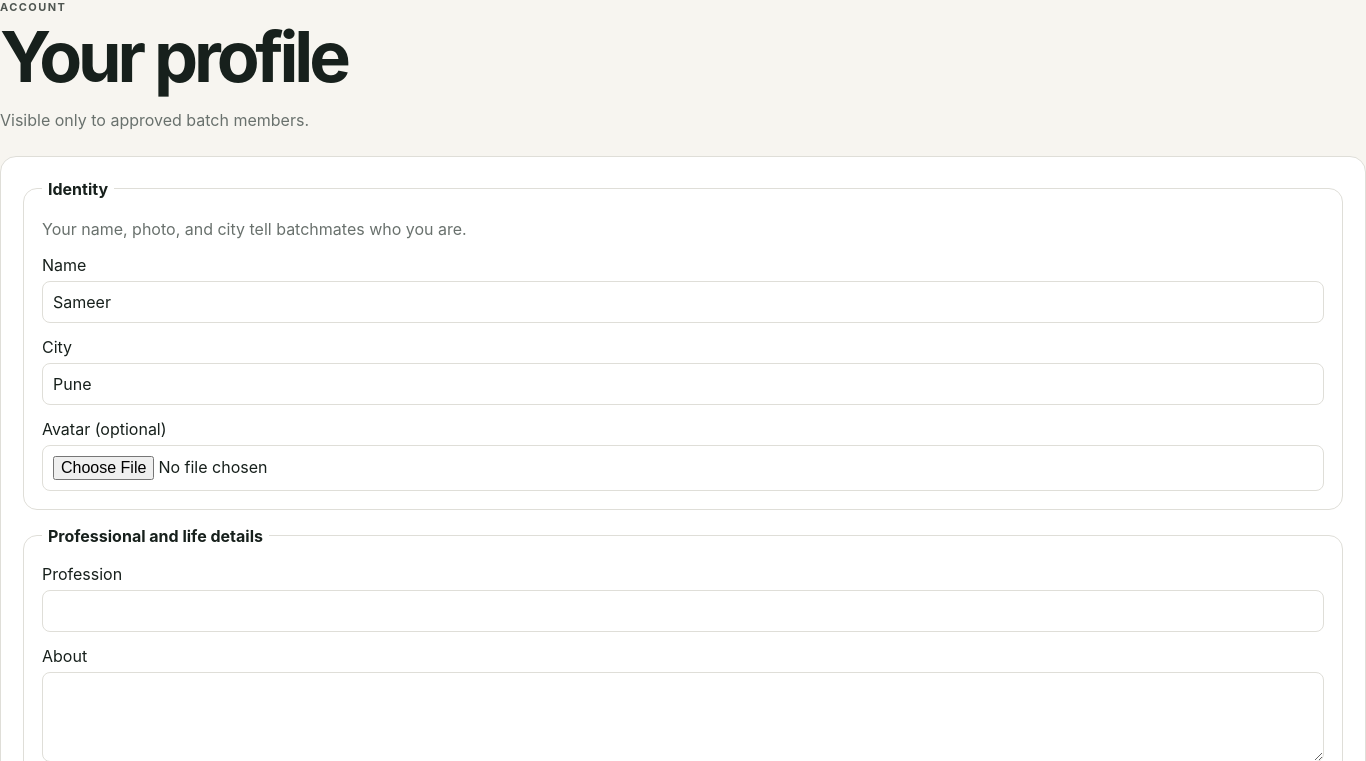
Scenario: UX-5 Account sections and sticky save › shows a sticky save control only after an edit, and saves the grouped profile
This screenshot has width=1366, height=761.
Expected: the button "Save profile" is not shown
Step 1. Type "!!" into the field labelled "City" → (683, 384), box [42,363,1324,405]
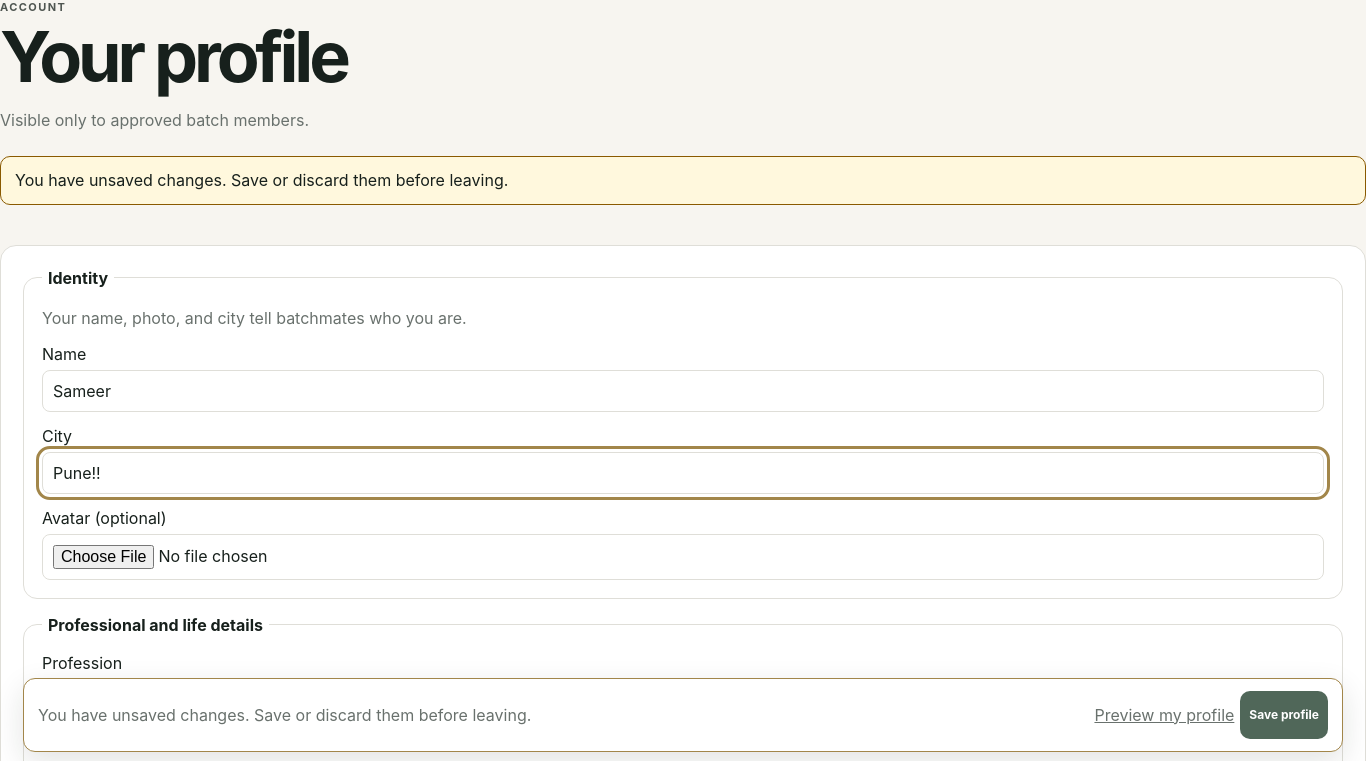
Expected: the button "Save profile" is shown
Step 2. Click the button "Save profile" → (1284, 715), box [1240,691,1328,739]
(page scrolled)
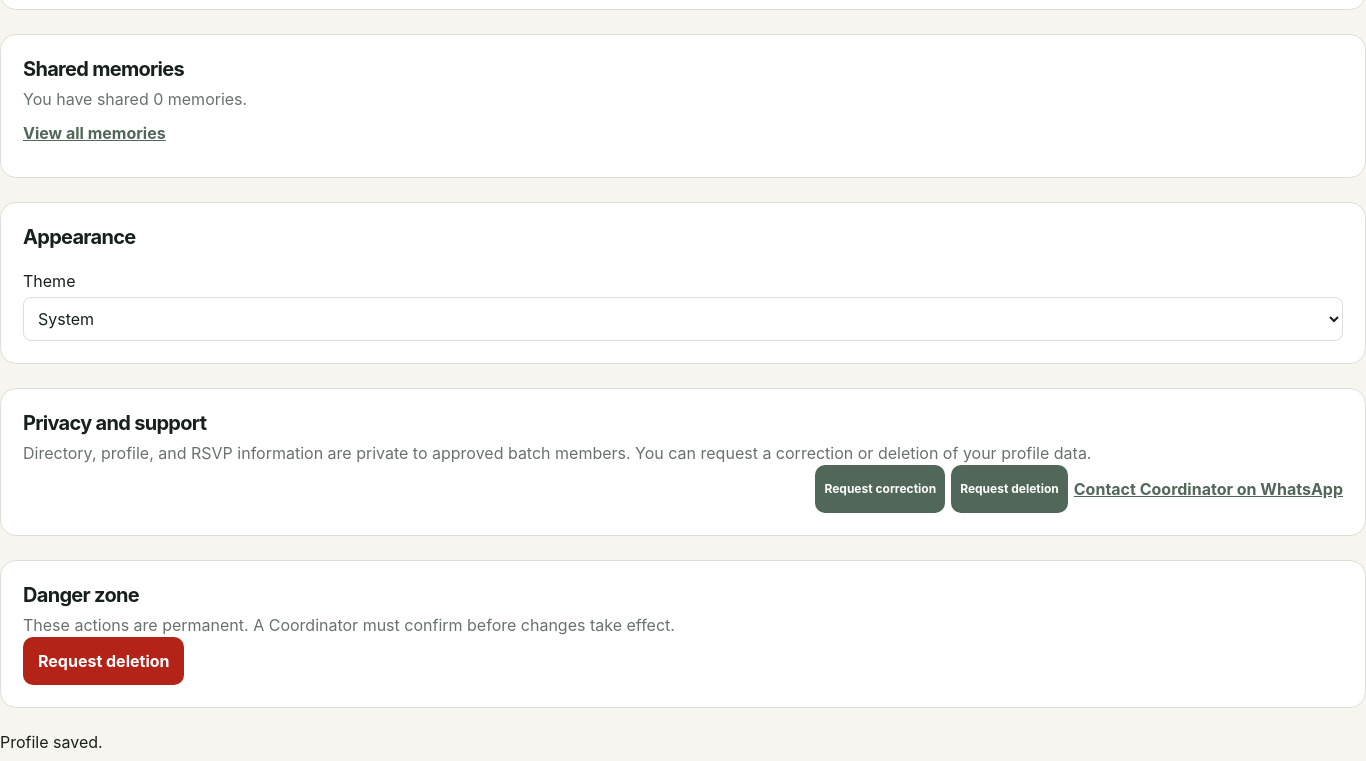
Expected: the message reads "Profile saved.", [0,732,103,752]
